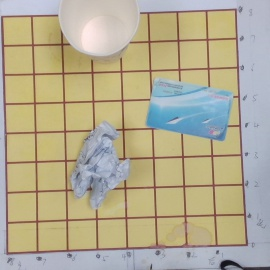card: (146, 75, 232, 143)
cup: (57, 1, 139, 68)
